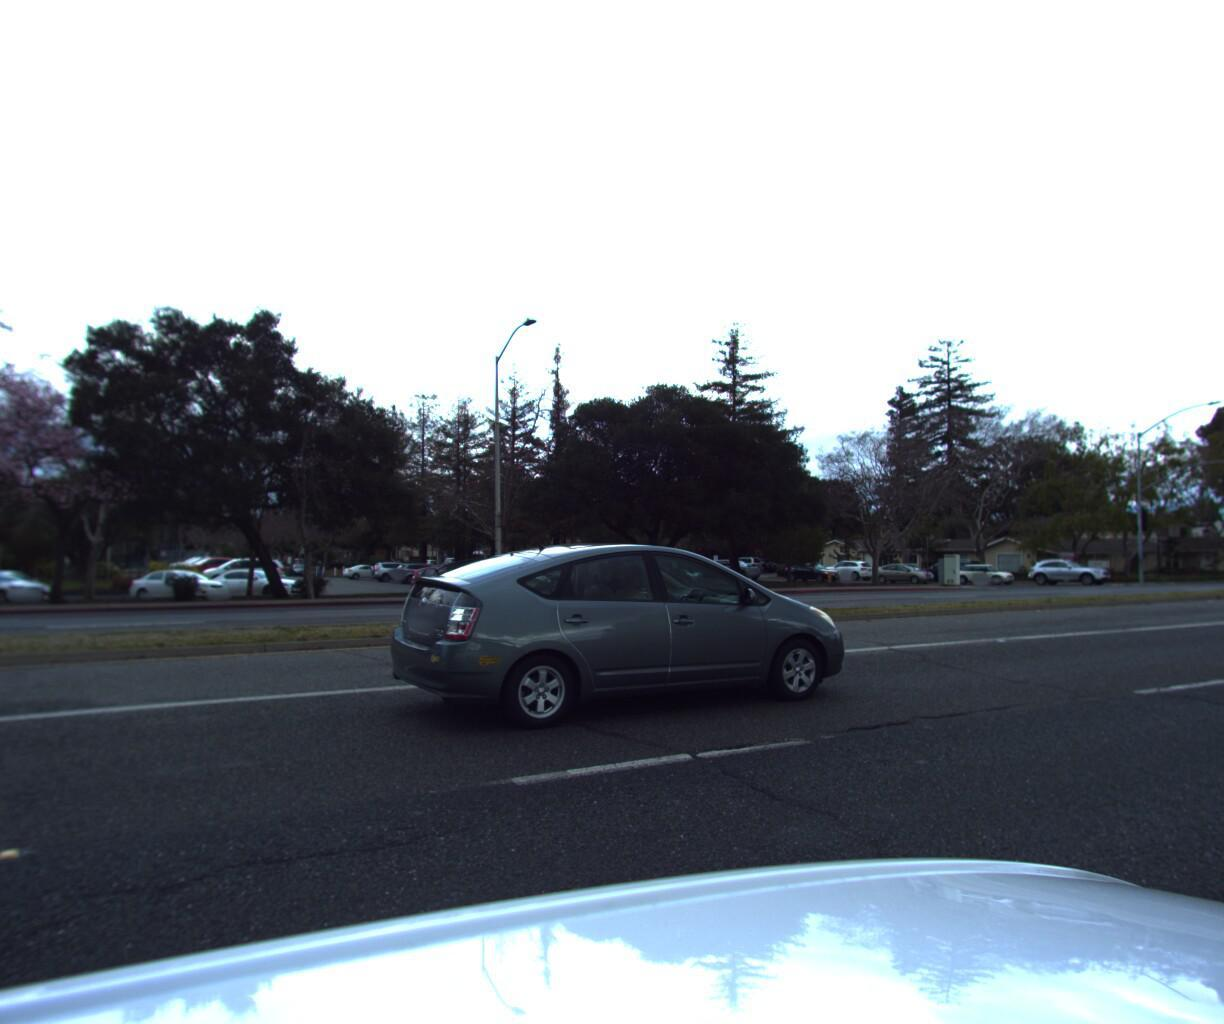car: (371, 534, 889, 765), (1022, 554, 1113, 582), (952, 558, 1018, 582), (870, 558, 938, 581), (815, 555, 874, 575), (710, 560, 764, 579)
